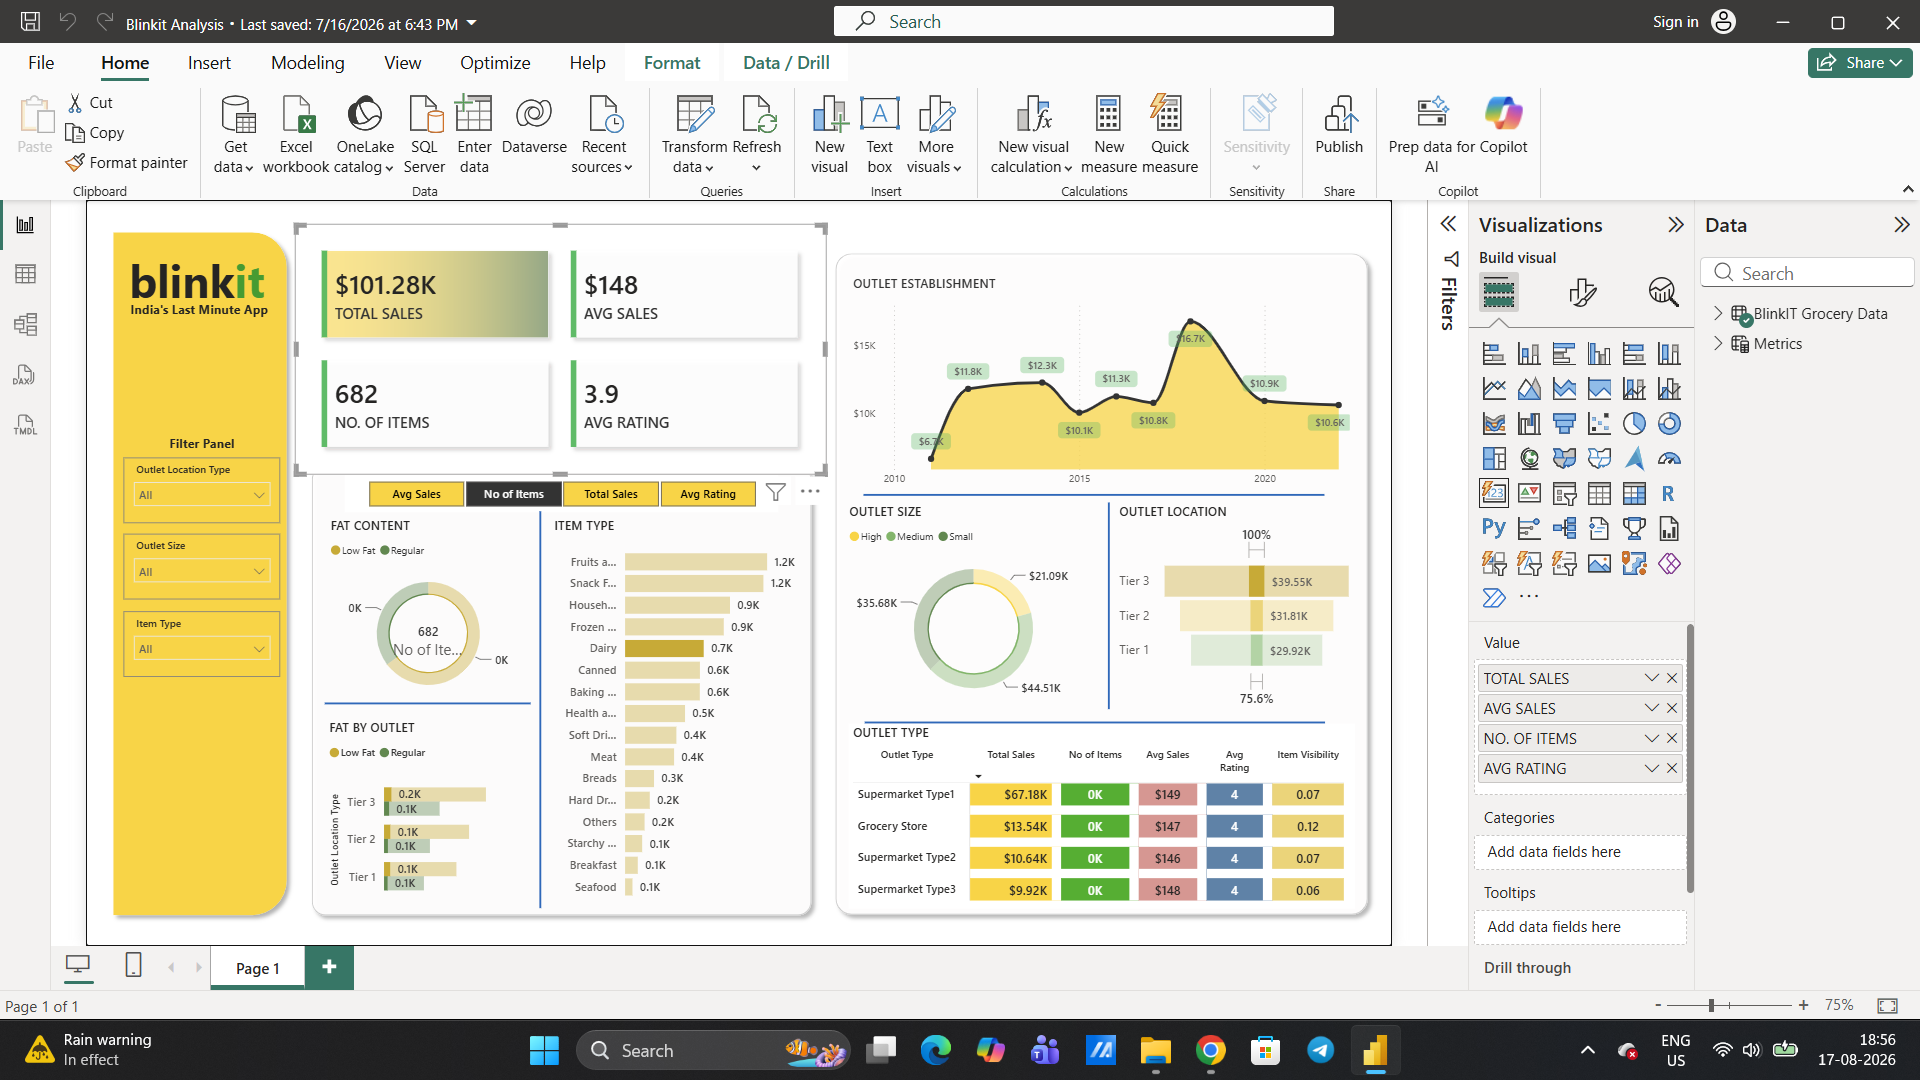

The page's visual inventory and layout, read from the dashboard file:
{"tool":"powerbi","page":{"name":"Page 1","canvas":[1400,800],"ordinal":0},"visuals":[{"type":"shape","box":[19.5,25.5,204.1,750.4],"z":0},{"type":"textbox","box":[34.5,48,168.1,76.5],"z":1000},{"type":"textbox","box":[37.5,103.6,168.1,28.5],"z":2000},{"type":"cardVisual","fields":{"Data":["BlinkIT Grocery Data.Total Sales","BlinkIT Grocery Data.Avg Sales","BlinkIT Grocery Data.No of Items","BlinkIT Grocery Data.Avg Rating"]},"box":[223.9,25.5,569.7,269.4],"z":3000},{"type":"image","box":[429,67,63,37.5],"z":4000},{"type":"image","box":[699.7,67,63,37.5],"z":5000},{"type":"image","box":[429,187.7,63,37.5],"z":6000},{"type":"image","box":[699.7,187.7,63,36.2],"z":7000},{"type":"shape","box":[233.2,276.1,553.6,500],"z":8000},{"type":"donutChart","title":"FAT CONTENT","fields":{"Y":["BlinkIT Grocery Data.No of Items"],"Category":["BlinkIT Grocery Data.Item Fat Content"]},"box":[257.4,339.1,219.8,206.4],"z":9000},{"type":"slicer","fields":{"Values":["Metrics.Metrics"]},"box":[277.5,294.9,465.1,40.2],"z":10000},{"type":"cardVisual","fields":{"Data":["BlinkIT Grocery Data.No of Items"]},"box":[300.3,437,134,71],"z":11000},{"type":"clusteredBarChart","title":"FAT BY OUTLET","fields":{"Y":["BlinkIT Grocery Data.No of Items"],"Category":["BlinkIT Grocery Data.Outlet Location Type"],"Series":["BlinkIT Grocery Data.Item Fat Content"]},"box":[256.4,556.4,220,206.4],"z":12000},{"type":"shape","box":[255.5,508.2,220.9,63.6],"z":13000},{"type":"shape","box":[477.1,334.3,20,425.7],"z":14000},{"type":"barChart","title":"ITEM TYPE","fields":{"Y":["BlinkIT Grocery Data.No of Items"],"Category":["BlinkIT Grocery Data.Item Type"]},"box":[497.1,338.6,271.4,421.4],"z":15000},{"type":"shape","box":[794.3,48.6,588.6,727.1],"z":16000},{"type":"lineChart","title":"OUTLET ESTABLISHMENT","fields":{"Y":["BlinkIT Grocery Data.Total Sales"],"Category":["BlinkIT Grocery Data.Outlet Establishment Year"]},"box":[817.1,80,542.9,235.7],"z":17000},{"type":"shape","box":[834.3,274.3,494.3,82.9],"z":18000},{"type":"donutChart","title":"OUTLET SIZE","fields":{"Y":["BlinkIT Grocery Data.Total Sales"],"Series":["BlinkIT Grocery Data.Outlet Size"]},"box":[813.3,324.4,276.7,225.6],"z":19000},{"type":"funnel","title":"OUTLET LOCATION","fields":{"Y":["BlinkIT Grocery Data.Total Sales"],"Category":["BlinkIT Grocery Data.Outlet Location Type"]},"box":[1103.3,324.4,261.1,225.6],"z":20000},{"type":"pivotTable","title":"OUTLET TYPE","fields":{"Rows":["BlinkIT Grocery Data.Outlet Type"],"Values":["BlinkIT Grocery Data.Total Sales","BlinkIT Grocery Data.No of Items","BlinkIT Grocery Data.Avg Sales","BlinkIT Grocery Data.Avg Rating","Avg(BlinkIT Grocery Data.Item Visibility)"]},"box":[817.1,561.4,542.9,198.6],"z":21000},{"type":"shape","box":[834.6,518.5,493.8,83.1],"z":22000},{"type":"shape","box":[1040,325,113.3,221.7],"z":23000},{"type":"slicer","fields":{"Values":["BlinkIT Grocery Data.Outlet Location Type"]},"box":[40,276.7,168.3,70],"z":24000},{"type":"slicer","fields":{"Values":["BlinkIT Grocery Data.Outlet Size"]},"box":[40,358.3,168.3,70],"z":25000},{"type":"slicer","fields":{"Values":["BlinkIT Grocery Data.Item Type"]},"box":[40,441.7,168.3,70],"z":26000},{"type":"textbox","box":[40,246.7,168.3,30],"z":26001}]}

Visuals, with their boxes on the page's 1400x800 design canvas (x1, y1, x2, y2). These are canvas units, not pixel positions in the 1920x1080 screenshot, which may show the page scaled, cropped or inside an application window:
shape: bbox=(20, 26, 224, 776)
textbox: bbox=(34, 48, 203, 124)
textbox: bbox=(38, 104, 206, 132)
cardVisual - BlinkIT Grocery Data.Total Sales x BlinkIT Grocery Data.Avg Sales: bbox=(224, 26, 794, 295)
image: bbox=(429, 67, 492, 104)
image: bbox=(700, 67, 763, 104)
image: bbox=(429, 188, 492, 225)
image: bbox=(700, 188, 763, 224)
shape: bbox=(233, 276, 787, 776)
"FAT CONTENT" donutChart: bbox=(257, 339, 477, 546)
slicer - Metrics.Metrics: bbox=(278, 295, 743, 335)
cardVisual - BlinkIT Grocery Data.No of Items: bbox=(300, 437, 434, 508)
"FAT BY OUTLET" clusteredBarChart: bbox=(256, 556, 476, 763)
shape: bbox=(256, 508, 476, 572)
shape: bbox=(477, 334, 497, 760)
"ITEM TYPE" barChart: bbox=(497, 339, 768, 760)
shape: bbox=(794, 49, 1383, 776)
"OUTLET ESTABLISHMENT" lineChart: bbox=(817, 80, 1360, 316)
shape: bbox=(834, 274, 1329, 357)
"OUTLET SIZE" donutChart: bbox=(813, 324, 1090, 550)
"OUTLET LOCATION" funnel: bbox=(1103, 324, 1364, 550)
"OUTLET TYPE" pivotTable: bbox=(817, 561, 1360, 760)
shape: bbox=(835, 518, 1328, 602)
shape: bbox=(1040, 325, 1153, 547)
slicer - BlinkIT Grocery Data.Outlet Location Type: bbox=(40, 277, 208, 347)
slicer - BlinkIT Grocery Data.Outlet Size: bbox=(40, 358, 208, 428)
slicer - BlinkIT Grocery Data.Item Type: bbox=(40, 442, 208, 512)
textbox: bbox=(40, 247, 208, 277)
